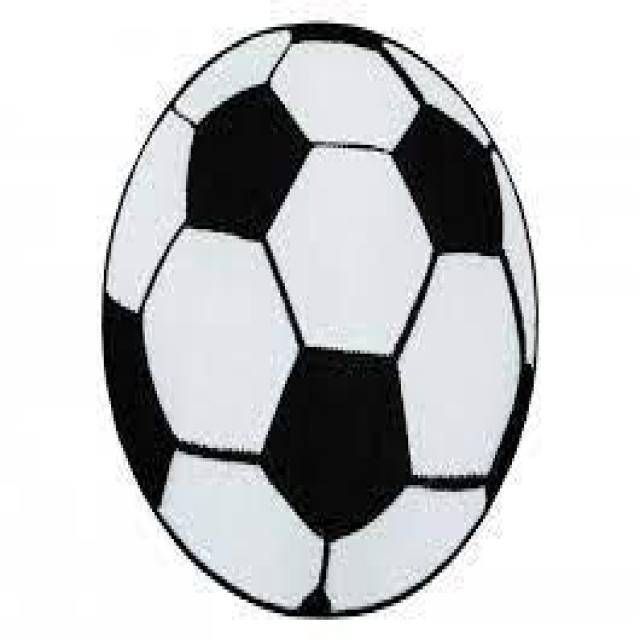Soccer Ball: (99, 24, 543, 616)
